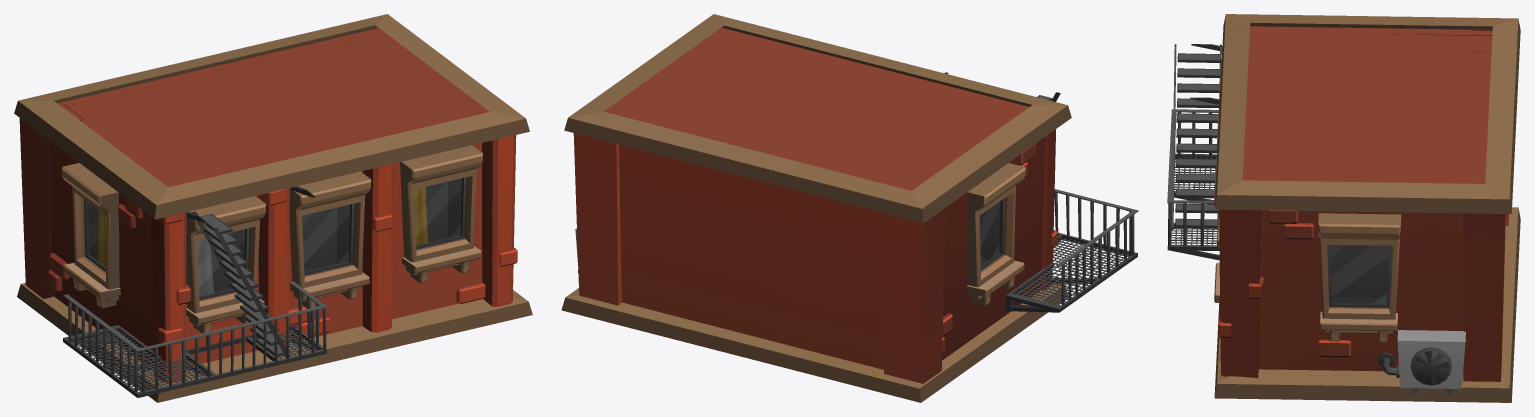
File: lowerFirst.glb
3 views of the same model, side by side, from view 1: azimuth 30°, elevation 25°; view 2: azimuth 150°, elevation 25°; view 3: azimuth 270°, elevation 25° (orthographic). The views are drawn at different scales.
Visible parts, largest first — view 1: MOVABLE_Lower_First_Floor; view 2: MOVABLE_Lower_First_Floor; view 3: MOVABLE_Lower_First_Floor.
Boxes of the visible parts, x1,y1,x2,y2 form: MOVABLE_Lower_First_Floor: [14, 14, 532, 402]; MOVABLE_Lower_First_Floor: [561, 14, 1138, 402]; MOVABLE_Lower_First_Floor: [1167, 14, 1520, 402].
Size of the model in its own units: 5.09 by 2.27 by 3.53.
Materials: 5 (5 with a texture image).
